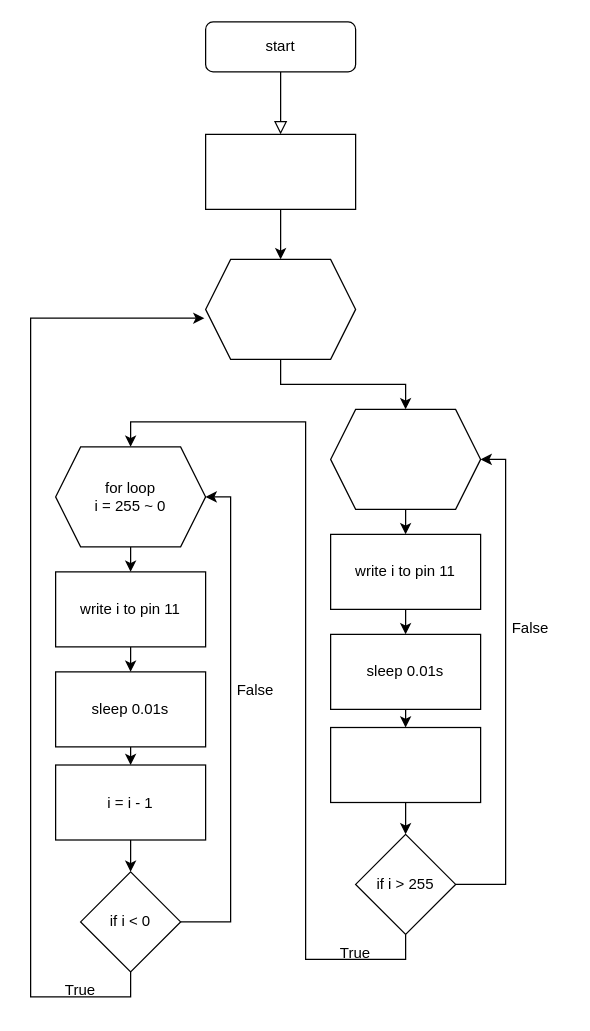
This 590x1031 diagram has some shape labels left out. The shapes that lost their labels are listed below. From the top down, each one's box as (x1, y1, x2, y2) in pixels, then its label:
(204, 133, 356, 209): set pin 11 mode to output
(204, 258, 356, 359): while True
(329, 408, 481, 509): for loop i = 0 ~ 255
(329, 726, 481, 802): i = i + 1
